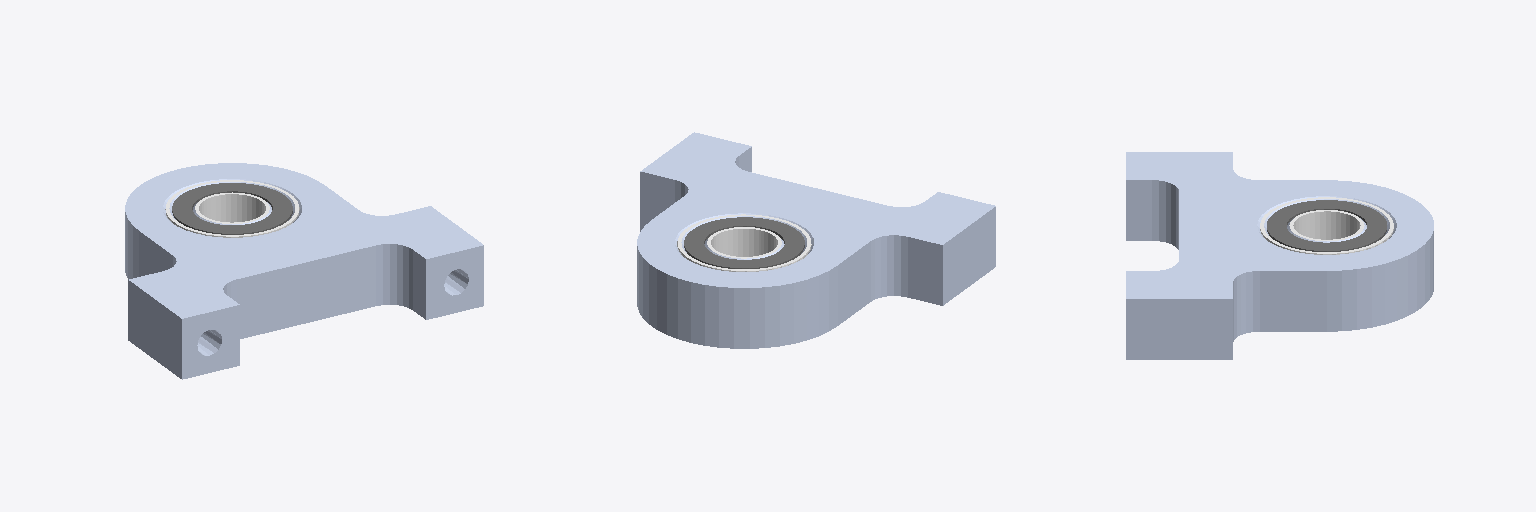
Rendered from ROB-12333.obj.
The picture shows the model from 3 angles: view 1: azimuth 30°, elevation 25°; view 2: azimuth 150°, elevation 25°; view 3: azimuth 270°, elevation 25°; orthographic projection.
Visible parts, largest first — view 1: mesh 2 Boss-Extrude3, mesh 3 Boss-Extrude4, mesh 1 RO; view 2: mesh 2 Boss-Extrude3, mesh 3 Boss-Extrude4, mesh 1 RO; view 3: mesh 2 Boss-Extrude3, mesh 3 Boss-Extrude4, mesh 1 RO.
Boxes of the visible parts, x1=… form: mesh 2 Boss-Extrude3: x1=125, y1=163, x2=483, y2=379; mesh 3 Boss-Extrude4: x1=172, y1=183, x2=292, y2=234; mesh 1 RO: x1=165, y1=180, x2=299, y2=237; mesh 2 Boss-Extrude3: x1=637, y1=132, x2=995, y2=348; mesh 3 Boss-Extrude4: x1=684, y1=217, x2=804, y2=268; mesh 1 RO: x1=677, y1=214, x2=811, y2=271; mesh 2 Boss-Extrude3: x1=1126, y1=152, x2=1433, y2=359; mesh 3 Boss-Extrude4: x1=1267, y1=200, x2=1386, y2=251; mesh 1 RO: x1=1260, y1=197, x2=1393, y2=254.
Bounding box in the file's own units: 0.033 × 0.0063 × 0.0292.